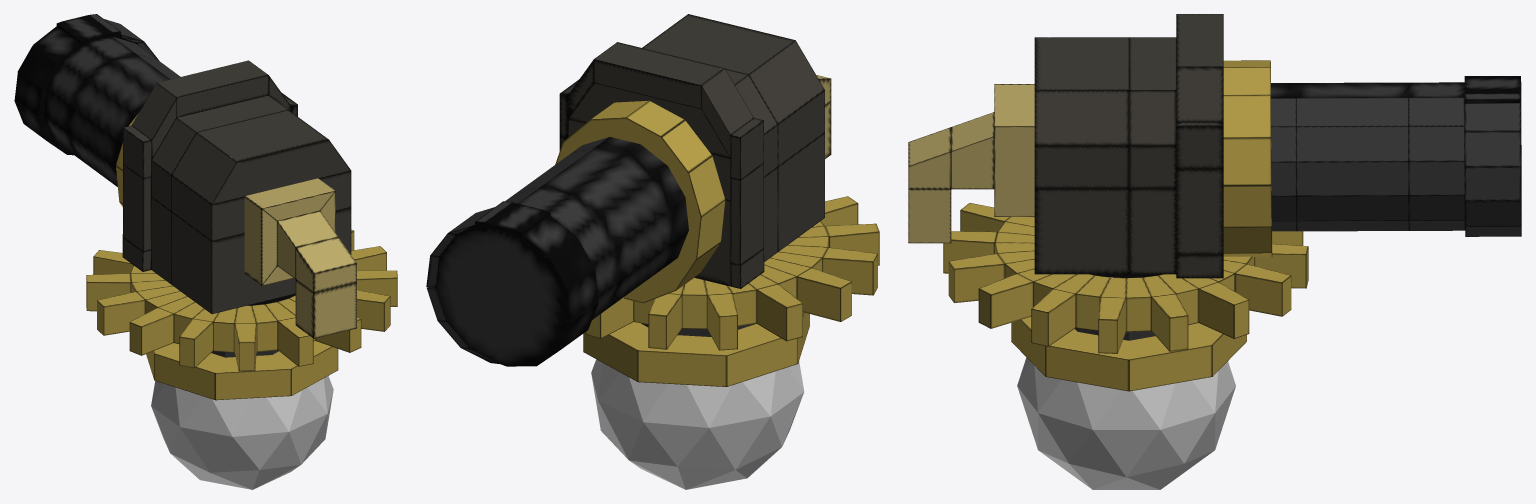
Rendered from Canon.obj.
The picture shows the model from 3 angles, left to right: view 1: azimuth 30°, elevation 25°; view 2: azimuth 150°, elevation 25°; view 3: azimuth 270°, elevation 25°; orthographic projection. The views are drawn at different scales.
Parts seen in each view (by area): view 1: canon; view 2: canon; view 3: canon.
Part boxes in pixels (box(x1,y1,x2,y2)): canon: box(14, 14, 397, 489); canon: box(426, 14, 879, 489); canon: box(908, 14, 1521, 489).
Bounding box in the file's own units: 2.51 × 3.38 × 4.22.
